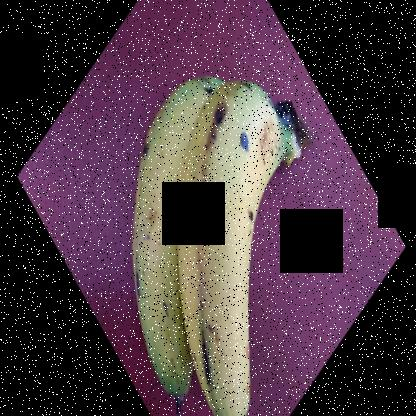ripe: (164, 58, 286, 416), (117, 22, 222, 402)
